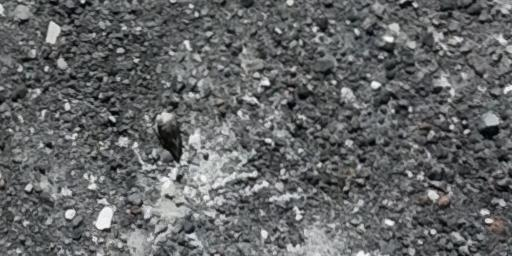skua: (142, 97, 190, 170)
